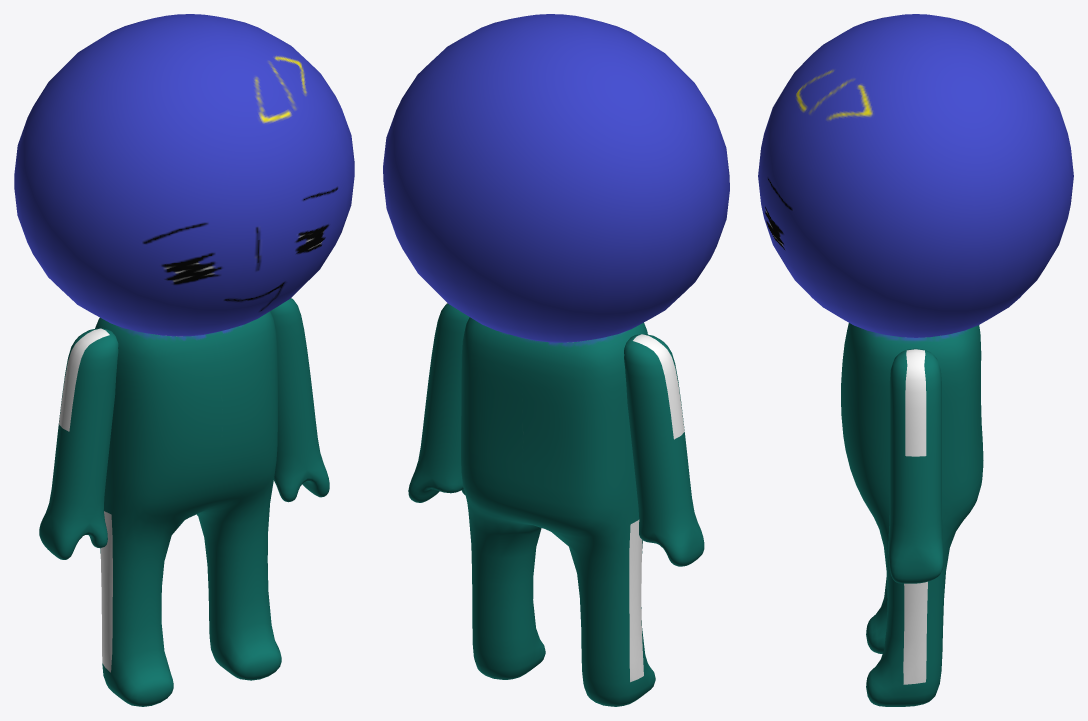
The model's file is B_player.glb.
The picture shows the model from 3 angles, left to right: view 1: azimuth 30°, elevation 25°; view 2: azimuth 150°, elevation 25°; view 3: azimuth 270°, elevation 25°; orthographic projection. The views are drawn at different scales.
Parts seen in each view (by area): view 1: node_id5; view 2: node_id5; view 3: node_id5.
Boxes of the visible parts, x1=… form: node_id5: x1=14, y1=14, x2=354, y2=706; node_id5: x1=383, y1=14, x2=729, y2=706; node_id5: x1=758, y1=14, x2=1073, y2=706.
Bounding box in the file's own units: 0.198 × 0.4062 × 0.1803.
Materials: 1 (1 with a texture image).
